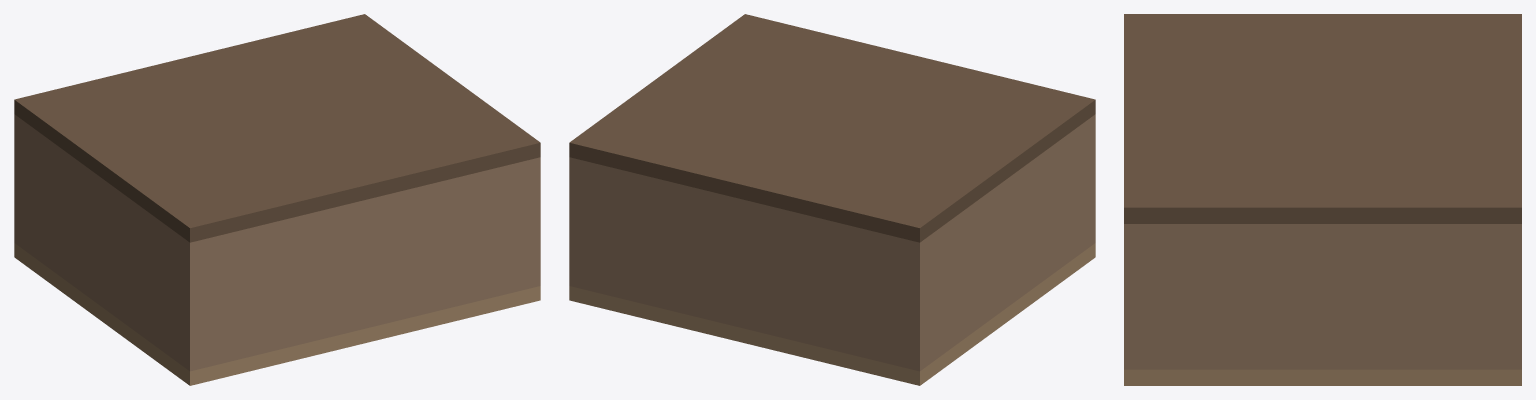
File: casa_leo.glb
The picture shows the model from 3 angles, left to right: view 1: azimuth 30°, elevation 25°; view 2: azimuth 150°, elevation 25°; view 3: azimuth 270°, elevation 25°; orthographic projection. The views are drawn at different scales.
Parts seen in each view (by area): view 1: Techo_interior, Pared_sur, Pared_oeste, Suelo, Pared_norte; view 2: Techo_interior, Pared_norte, Pared_oeste, Suelo, Pared_sur; view 3: Techo_interior, Pared_este, Suelo, Pared_norte, Pared_sur.
Boxes of the visible parts, bbox=[...] form: Techo_interior: bbox=[14, 14, 540, 242]; Pared_sur: bbox=[182, 157, 540, 371]; Pared_oeste: bbox=[22, 120, 181, 365]; Suelo: bbox=[14, 243, 540, 385]; Pared_norte: bbox=[14, 114, 22, 248]; Techo_interior: bbox=[569, 14, 1095, 242]; Pared_norte: bbox=[569, 157, 927, 371]; Pared_oeste: bbox=[928, 120, 1087, 365]; Suelo: bbox=[569, 243, 1095, 385]; Pared_sur: bbox=[1087, 114, 1095, 248]; Techo_interior: bbox=[1124, 14, 1521, 223]; Pared_este: bbox=[1142, 224, 1503, 369]; Suelo: bbox=[1124, 369, 1521, 385]; Pared_norte: bbox=[1503, 224, 1521, 369]; Pared_sur: bbox=[1124, 224, 1142, 369].
Bounding box in the file's own units: 11.4 × 4.9 × 9.9.
